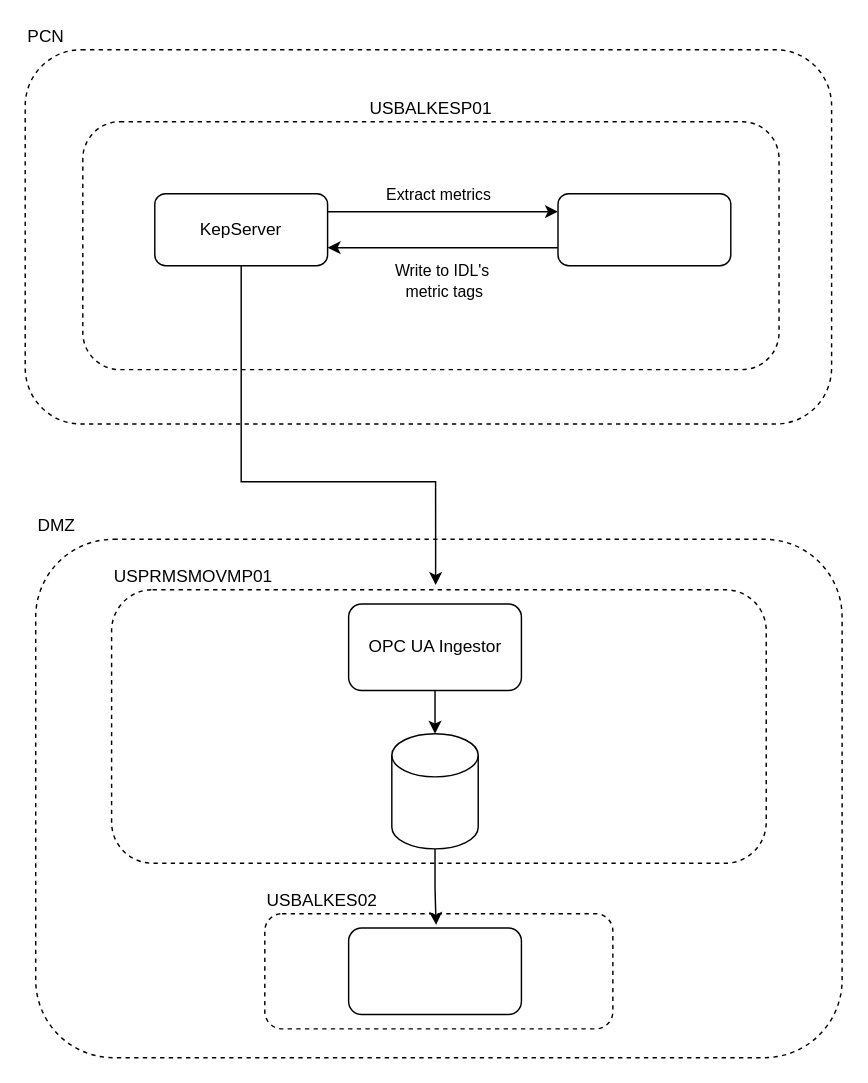
Image size: 868x1083. Some labels were removed from this diagram. Here are the shapes that lost their labels. From the top down, the centre of each, then its label:
At (x=644, y=229): "Extractor".
At (x=434, y=790): "DB".
At (x=434, y=970): "Grafana".
